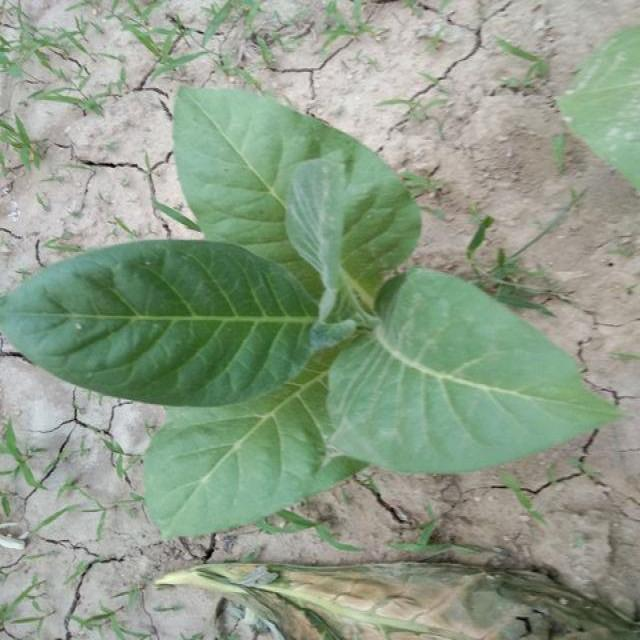crop: (2, 78, 632, 544)
